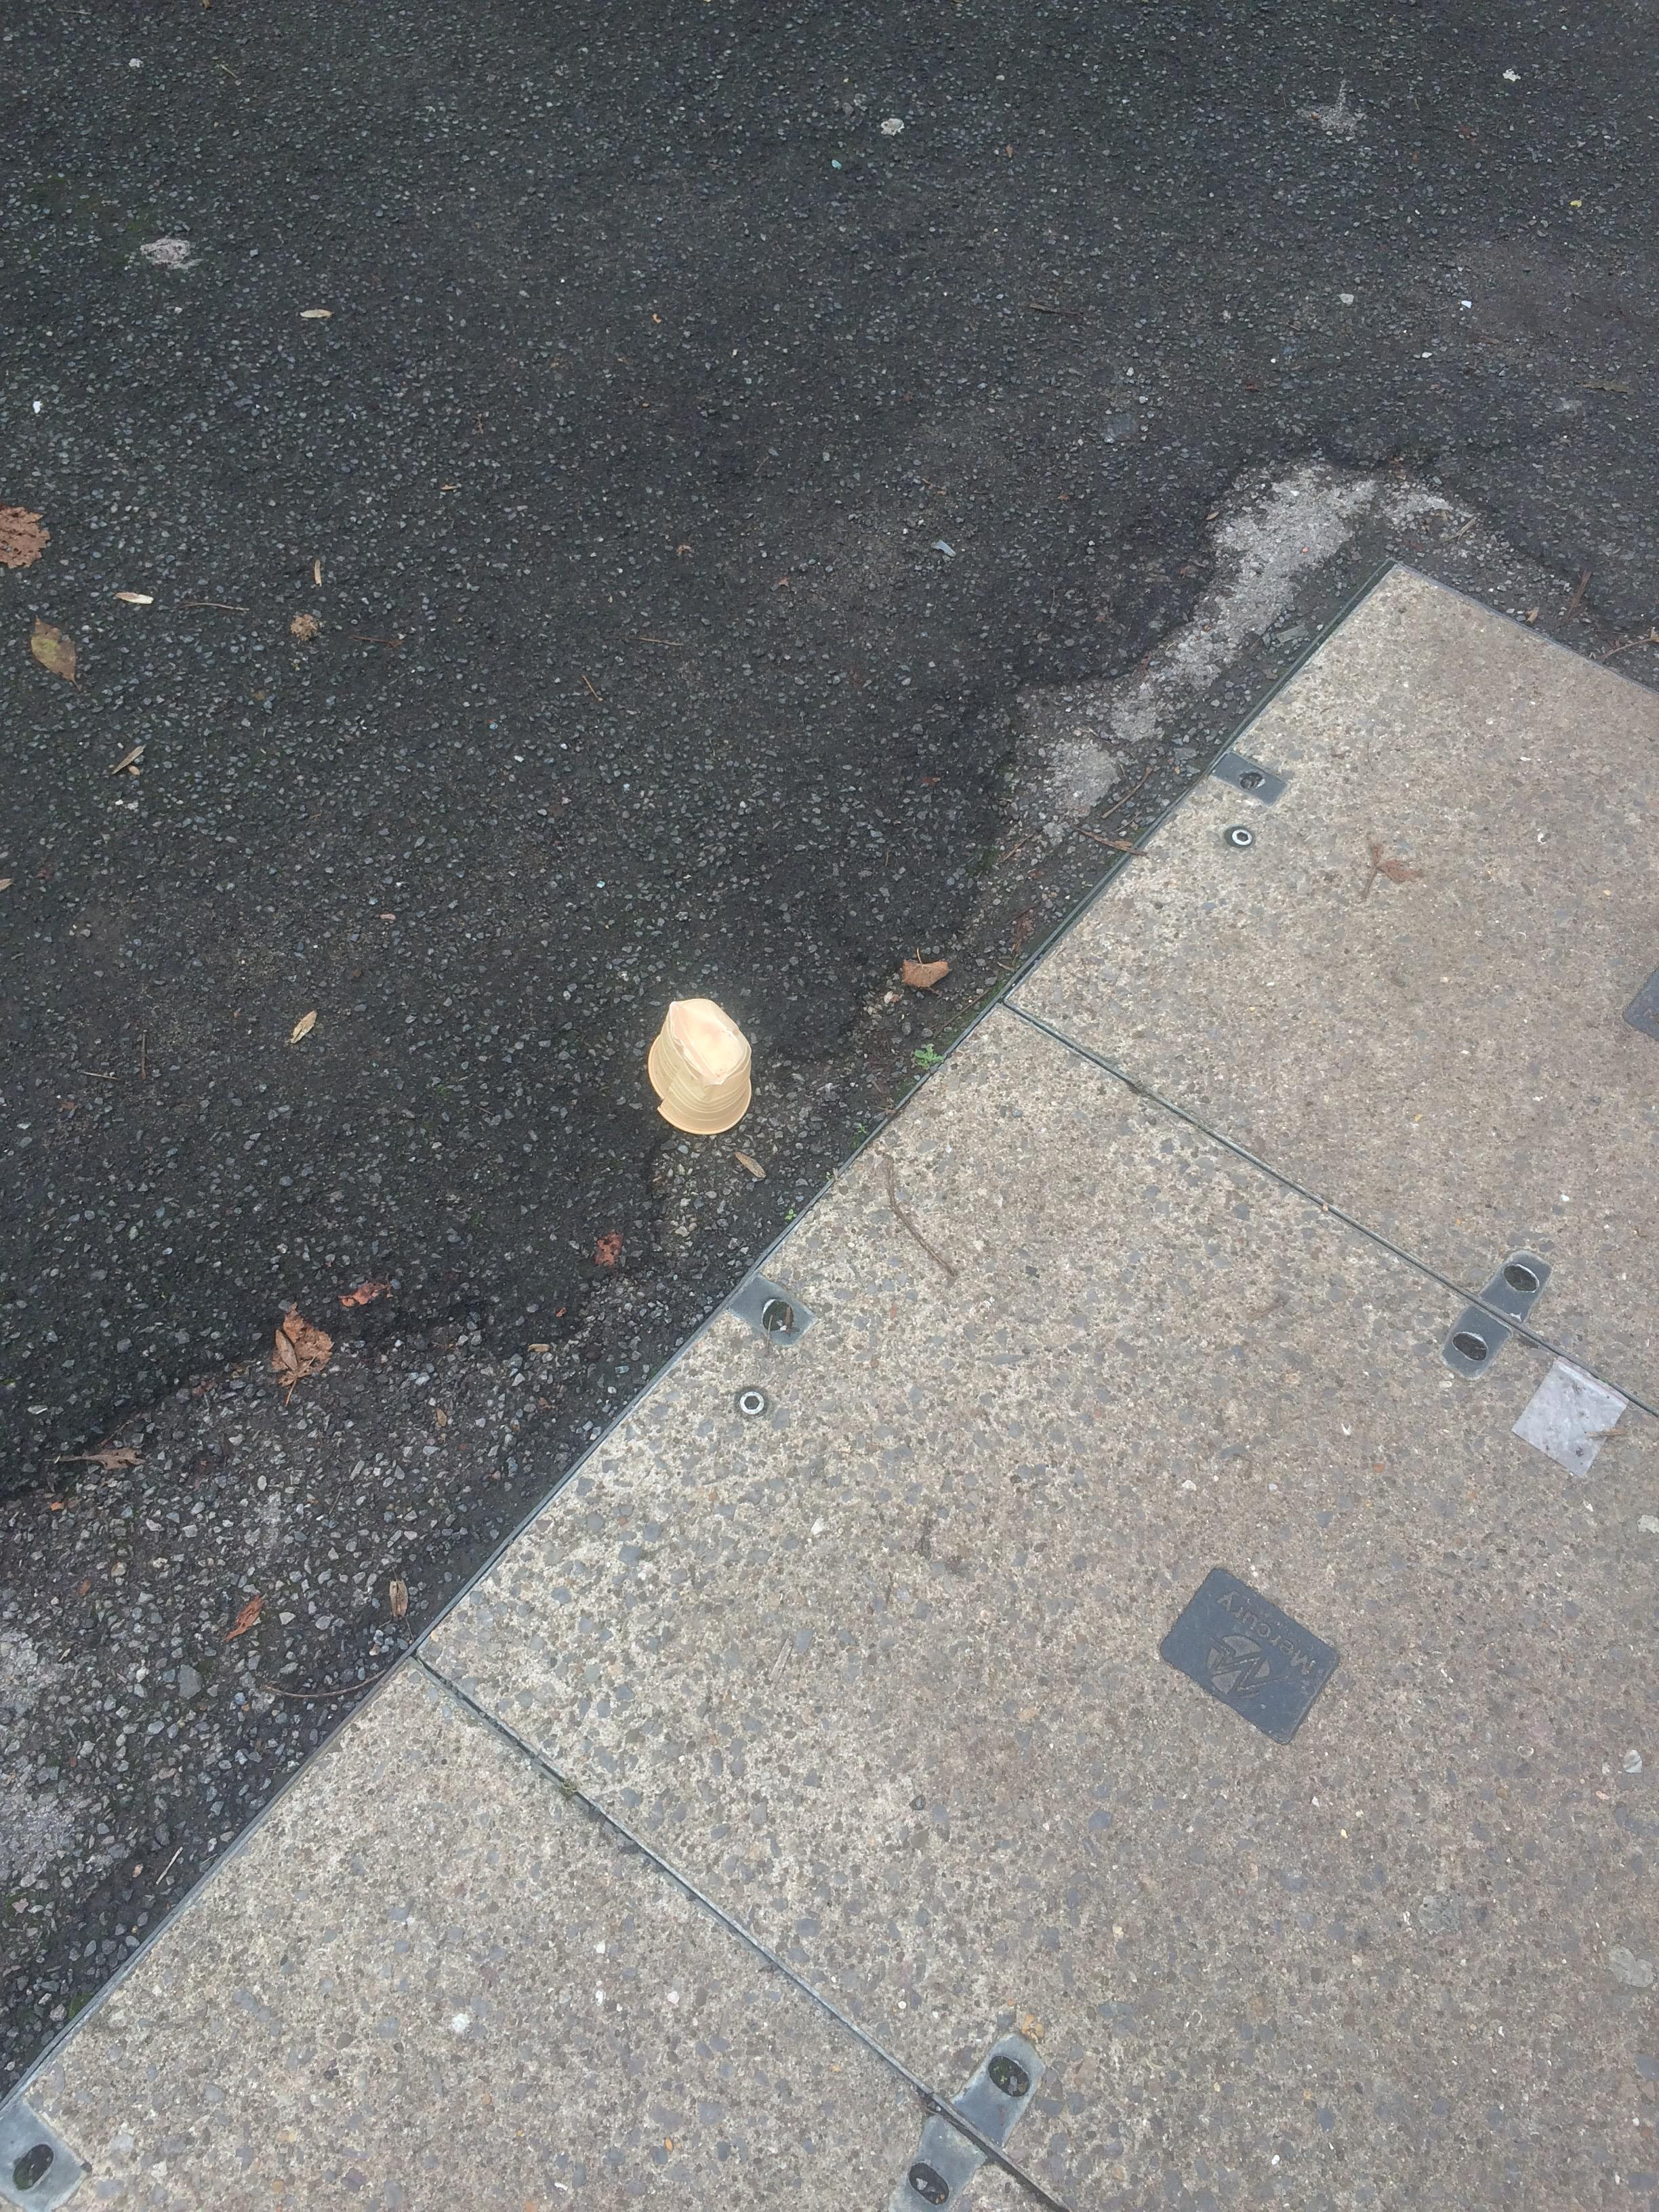Trash: (633, 986, 762, 1141)
